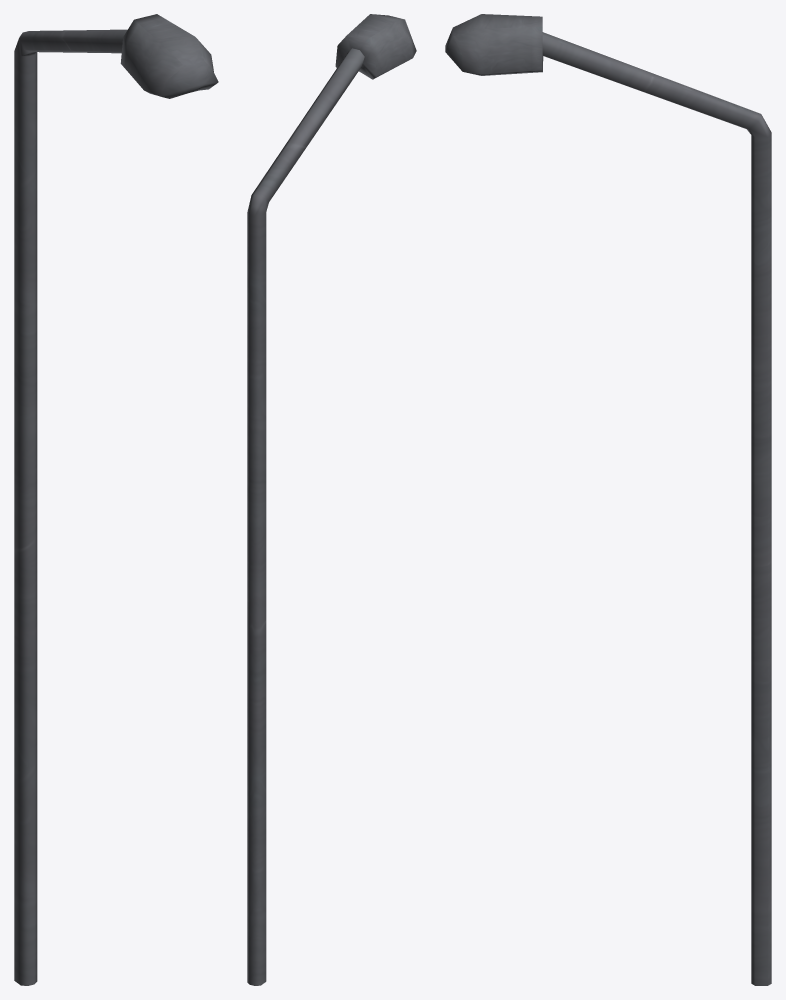
Rendered from Street_Lamp.fbx.
The picture shows the model from 3 angles, left to right: view 1: azimuth 30°, elevation 25°; view 2: azimuth 150°, elevation 25°; view 3: azimuth 270°, elevation 25°; orthographic projection. The views are drawn at different scales.
Parts seen in each view (by area): view 1: Street_Lamp; view 2: Street_Lamp; view 3: Street_Lamp.
Part boxes in pixels (x1,y1,x2,y2): Street_Lamp: (14, 14, 218, 985); Street_Lamp: (247, 14, 416, 985); Street_Lamp: (445, 14, 771, 985).
Size of the model in its own units: 49.25 by 705 by 217.
